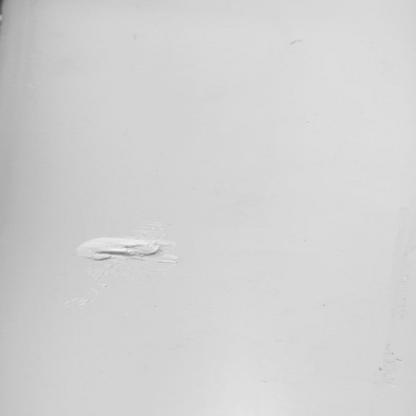sunshang: (80, 239, 177, 259)
